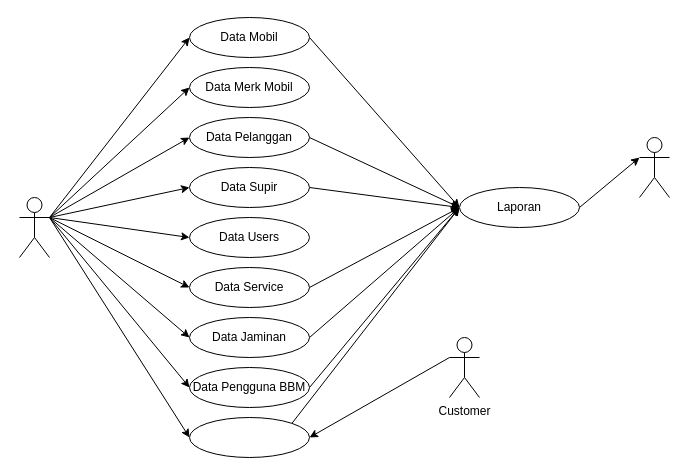
Some shapes in this 696 by 475 pixel diagram are drawn without their labels. Each missing label, with the box of its shape:
Admin: (18, 196, 50, 258)
Data Transaksi: (188, 416, 310, 458)
Pimpinan: (638, 136, 670, 198)
